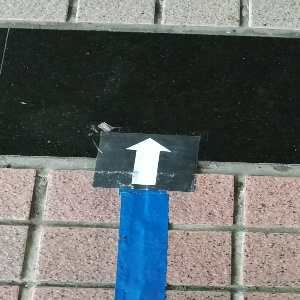straight: (93, 131, 199, 192)
